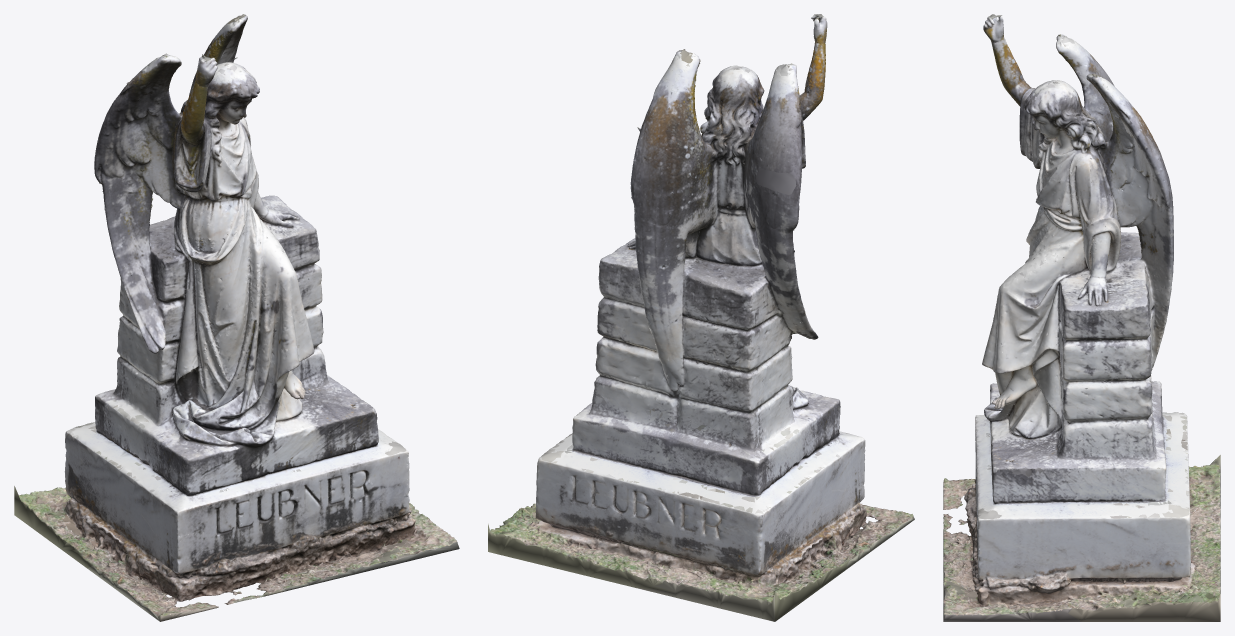
The model's file is statue_bio_hero.glb.
3 views of the same model, side by side, from view 1: azimuth 30°, elevation 25°; view 2: azimuth 150°, elevation 25°; view 3: azimuth 270°, elevation 25° (orthographic). The views are drawn at different scales.
Visible parts, largest first — view 1: default_0 (×4); view 2: default_0 (×4); view 3: default_0 (×4).
Part boxes in pixels (x1=…): default_0 (×4): x1=14, y1=14, x2=459, y2=621; default_0 (×4): x1=488, y1=14, x2=914, y2=621; default_0 (×4): x1=943, y1=14, x2=1220, y2=621.
Size of the model in its own units: 2.67 by 4.5 by 2.26.
1 material, 1 textured.
